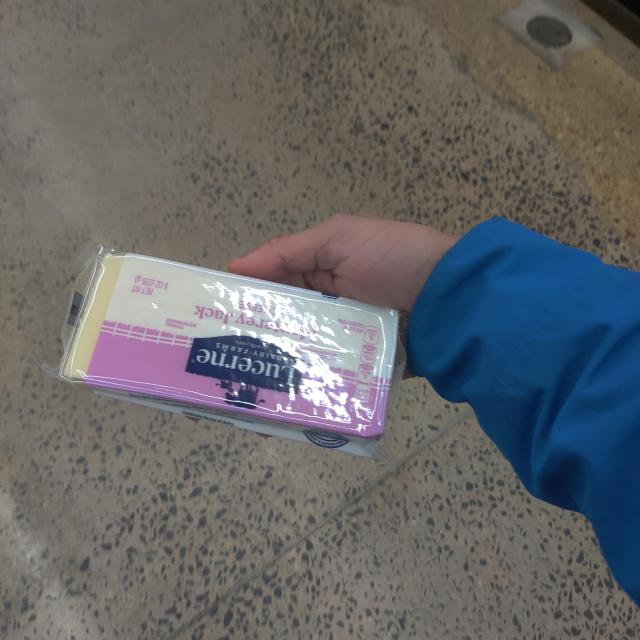Cheese: (56, 252, 406, 450)
